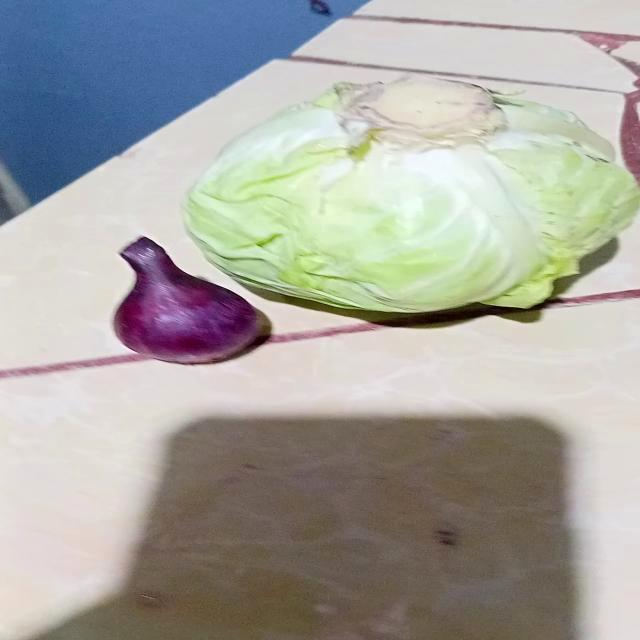cabbage: (182, 79, 635, 325)
onion: (110, 237, 274, 367)
